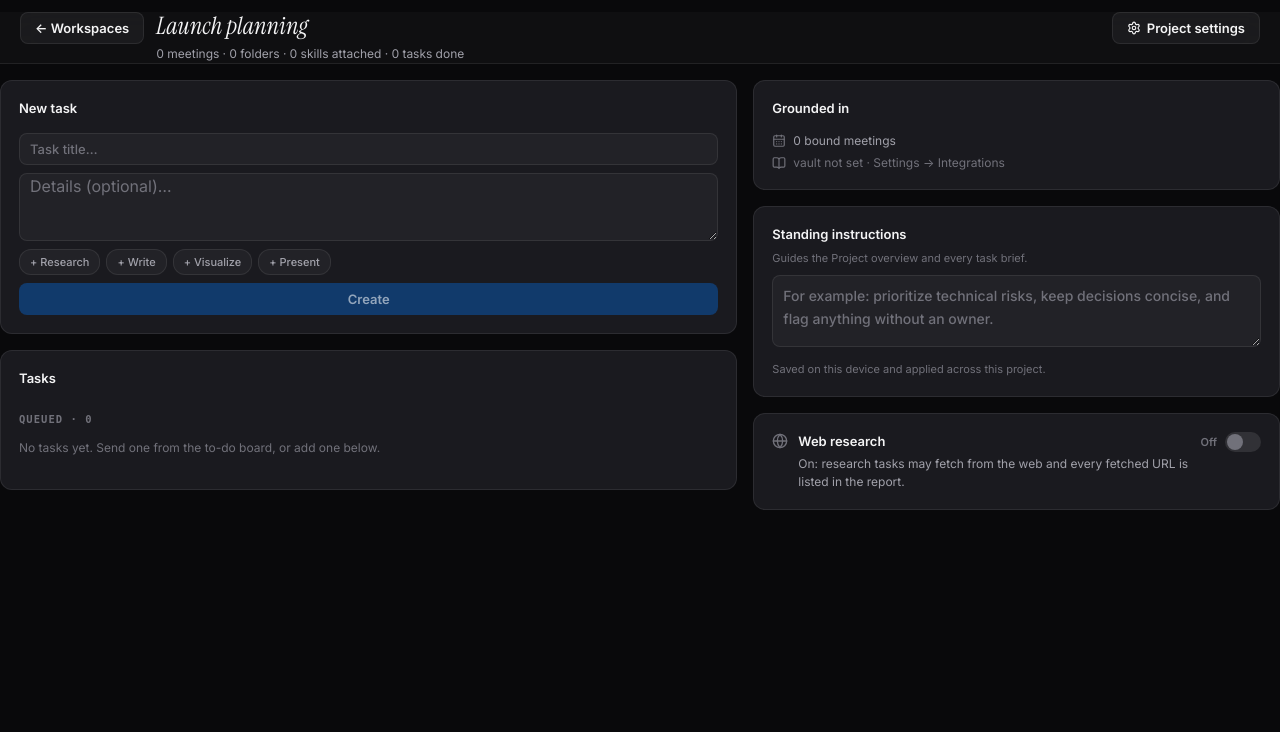
Scenario: WorkspaceDetailView model selection › offers the notes model and installed local profiles only
What coordinates should you click on to do the following:
click the button "Project settings"
I would click on:
 (1186, 28)
Its box is [1112, 12, 1260, 44].
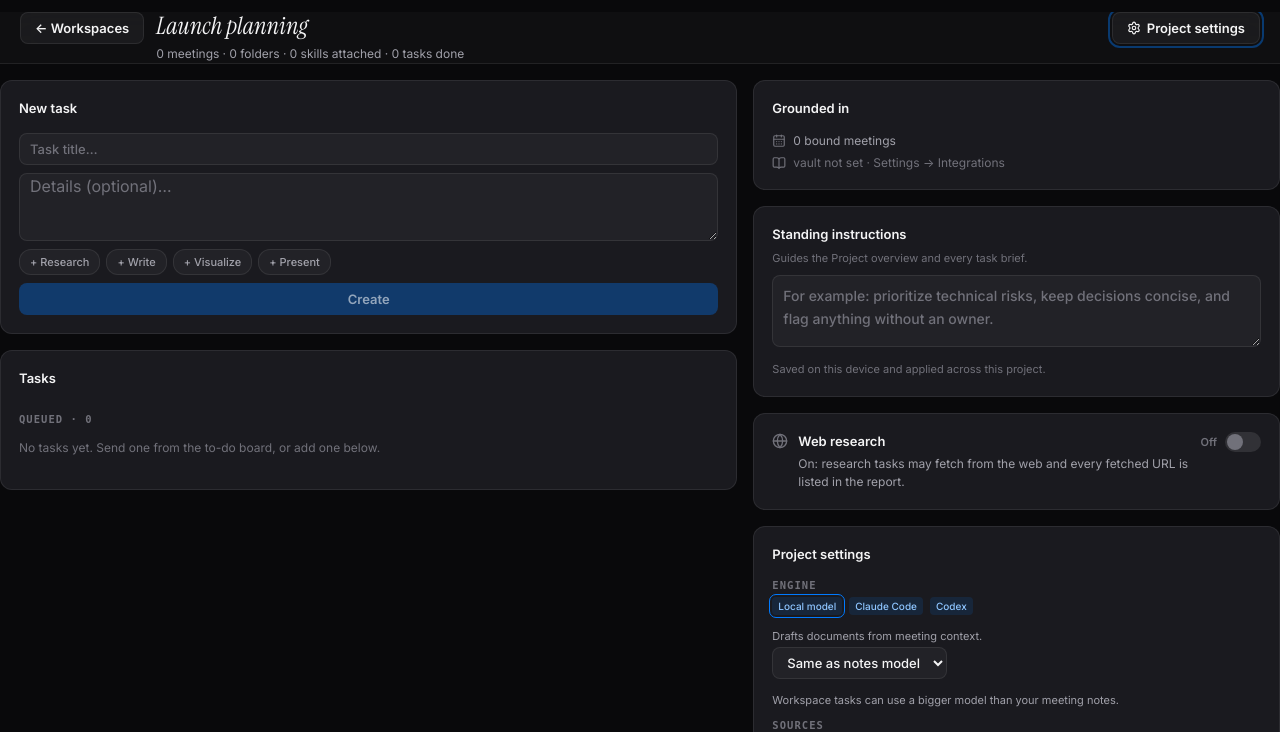
Check: the dropdown named "Workspace model" shows "Same as notes model", box [772, 647, 947, 679]
